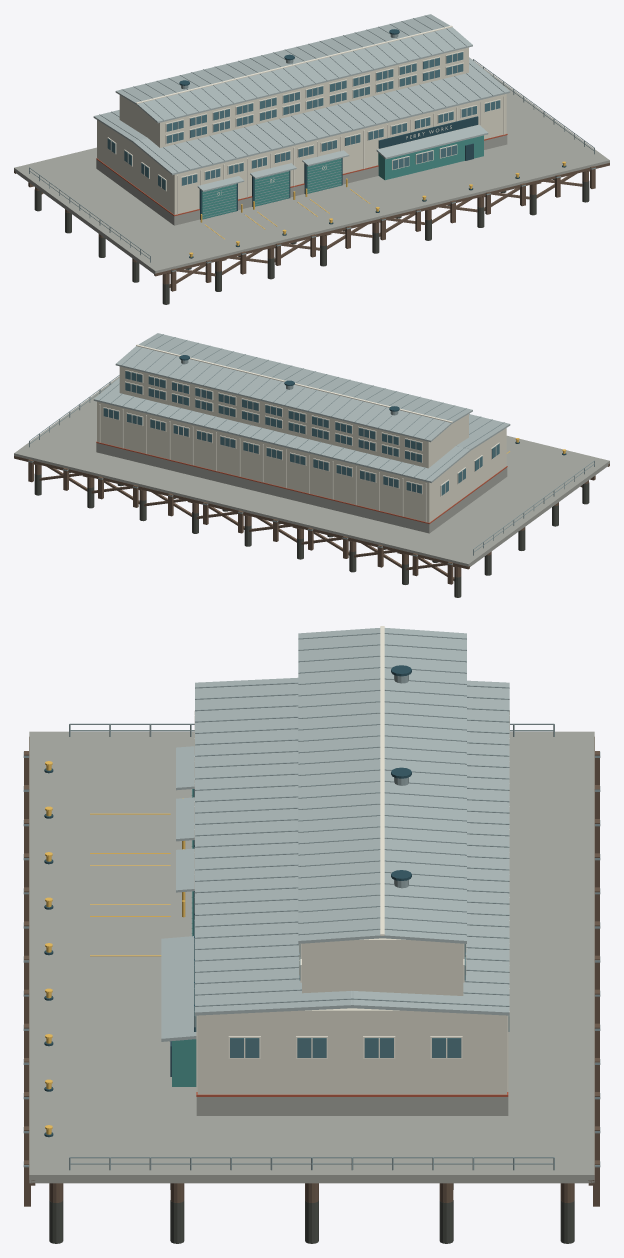
Rendered from maintenance_pier.glb.
3 views of the same model, one above another, from view 1: azimuth 30°, elevation 25°; view 2: azimuth 150°, elevation 25°; view 3: azimuth 270°, elevation 25° (orthographic). The views are drawn at different scales.
Parts seen in each view (by area): view 1: Maintenance hall, Pier, Loading apron; view 2: Maintenance hall, Pier; view 3: Maintenance hall, Pier, Loading apron.
Part boxes in pixels (bbox=[...]): Maintenance hall: bbox=[93, 14, 510, 225]; Pier: bbox=[14, 57, 609, 304]; Loading apron: bbox=[179, 29, 488, 239]; Maintenance hall: bbox=[93, 333, 510, 533]; Pier: bbox=[14, 375, 609, 597]; Maintenance hall: bbox=[194, 626, 509, 1115]; Pier: bbox=[23, 723, 600, 1243]; Loading apron: bbox=[90, 665, 411, 1086].
Size of the model in its own units: 78 by 21.67 by 42.86.
